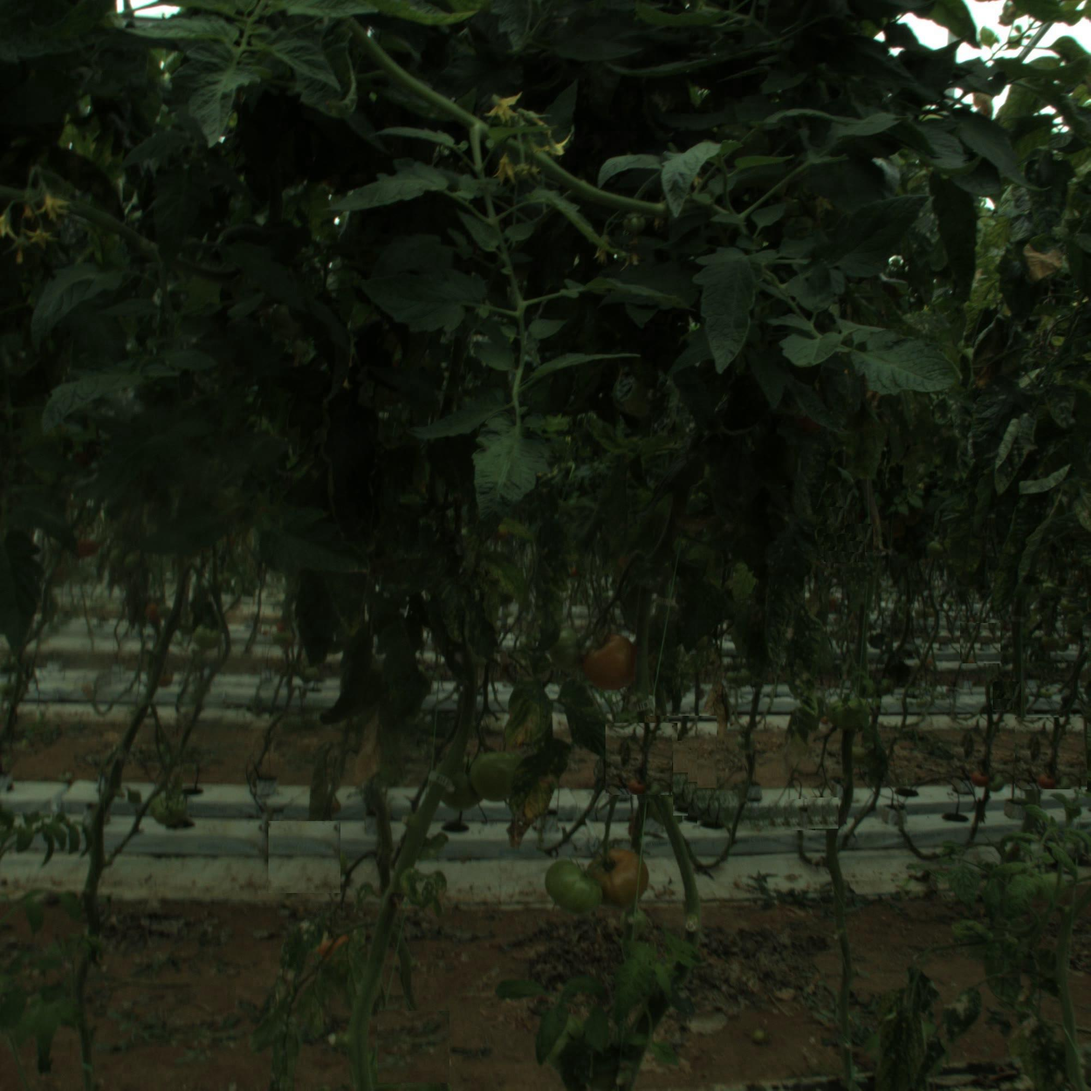fully-ripe: (583, 634, 639, 691), (592, 848, 649, 904)
unripe: (548, 855, 604, 912), (472, 752, 520, 800)
